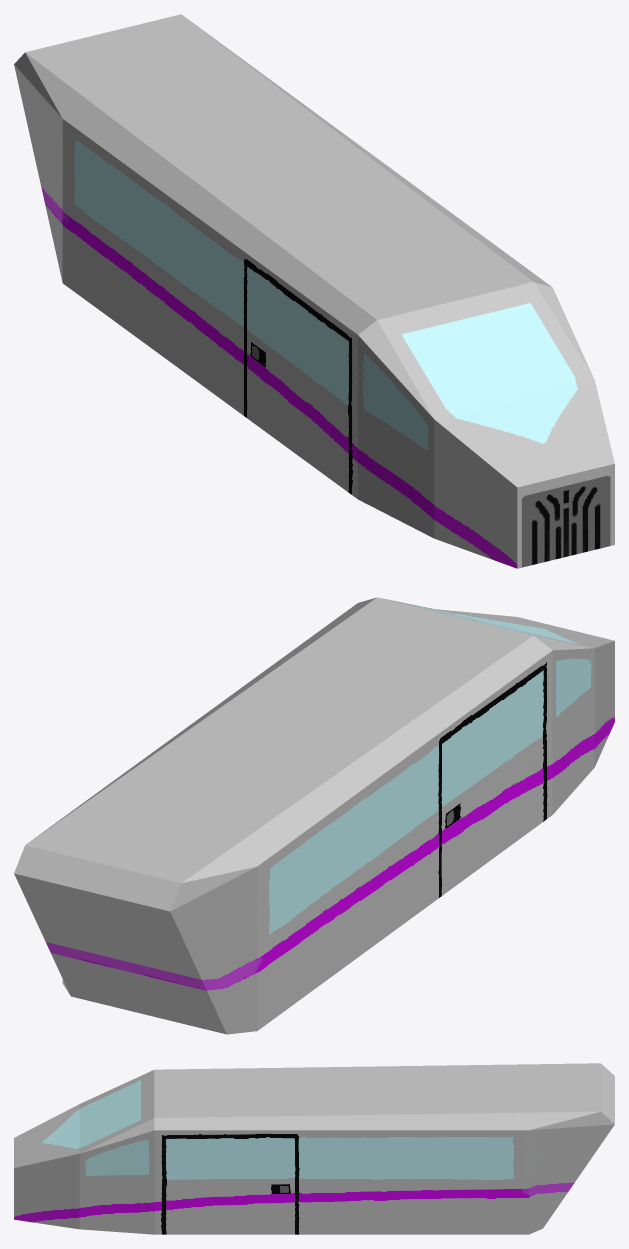
File: Train.fbx
3 renders of one model, top to bottom at view 1: azimuth 30°, elevation 25°; view 2: azimuth 150°, elevation 25°; view 3: azimuth 270°, elevation 25°, orthographic. The views are drawn at different scales.
Parts seen in each view (by area): view 1: Cube.001; view 2: Cube.001; view 3: Cube.001.
Boxes of the visible parts, <box> form: Cube.001: <box>14,14,614,568</box>; Cube.001: <box>14,597,614,1034</box>; Cube.001: <box>14,1063,614,1234</box>.
Bounding box in the file's own units: 200 × 181 × 843.
Materials: 1 (1 with a texture image).
